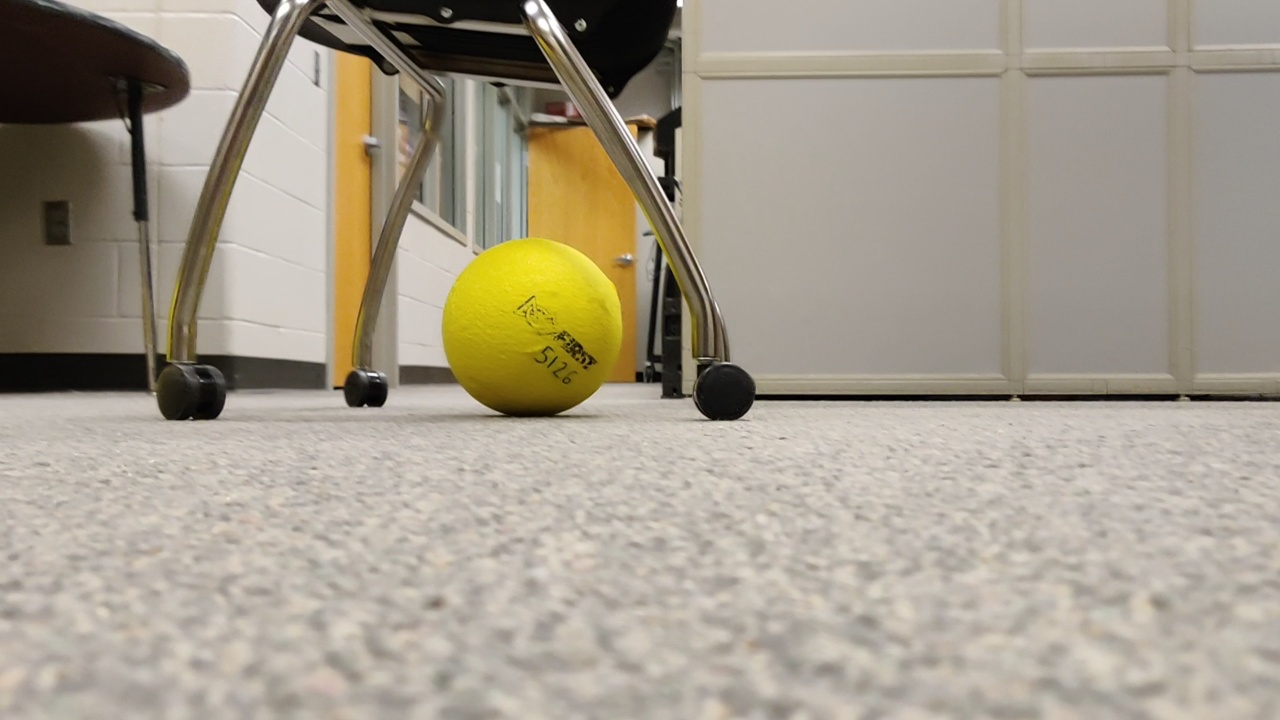Ball: (439, 239, 621, 421)
